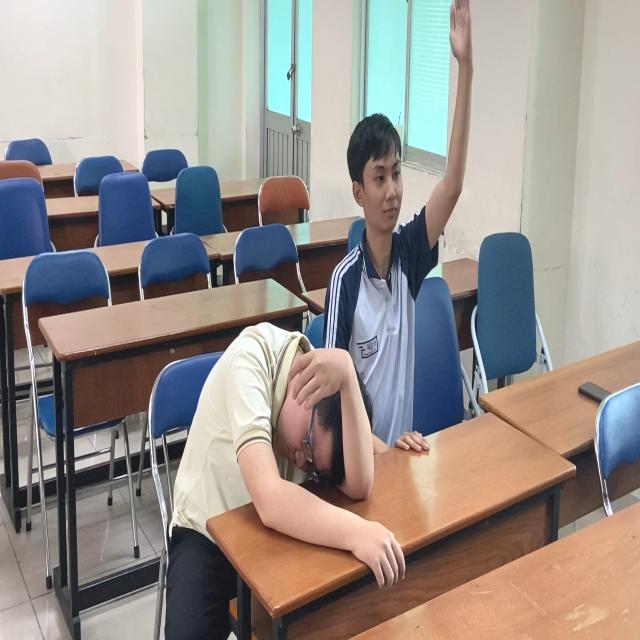raise_hand: (323, 1, 503, 448)
sleep: (168, 317, 374, 539)
